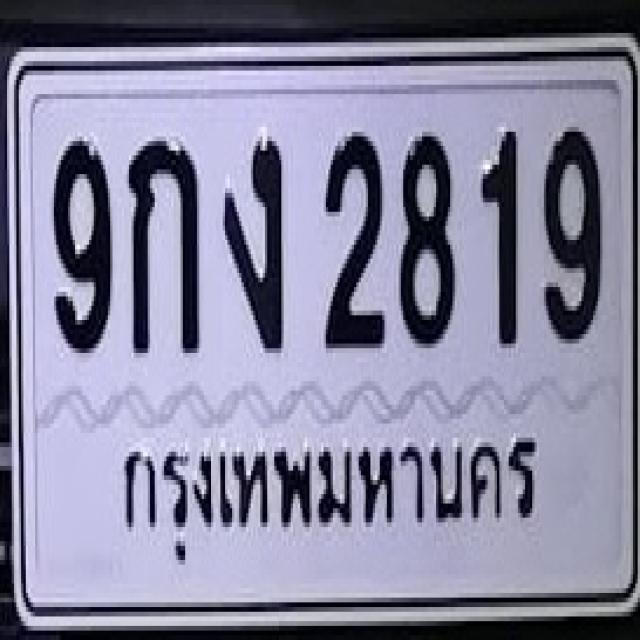license_plate: (2, 33, 640, 640)
